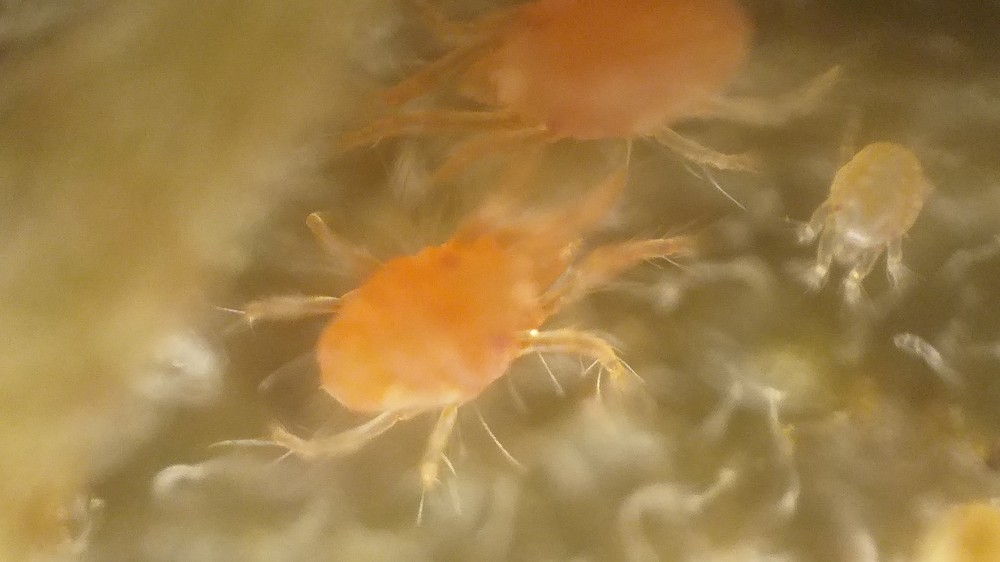Aracnido Rojo: (244, 182, 659, 497), (349, 6, 844, 190), (784, 127, 952, 320)
